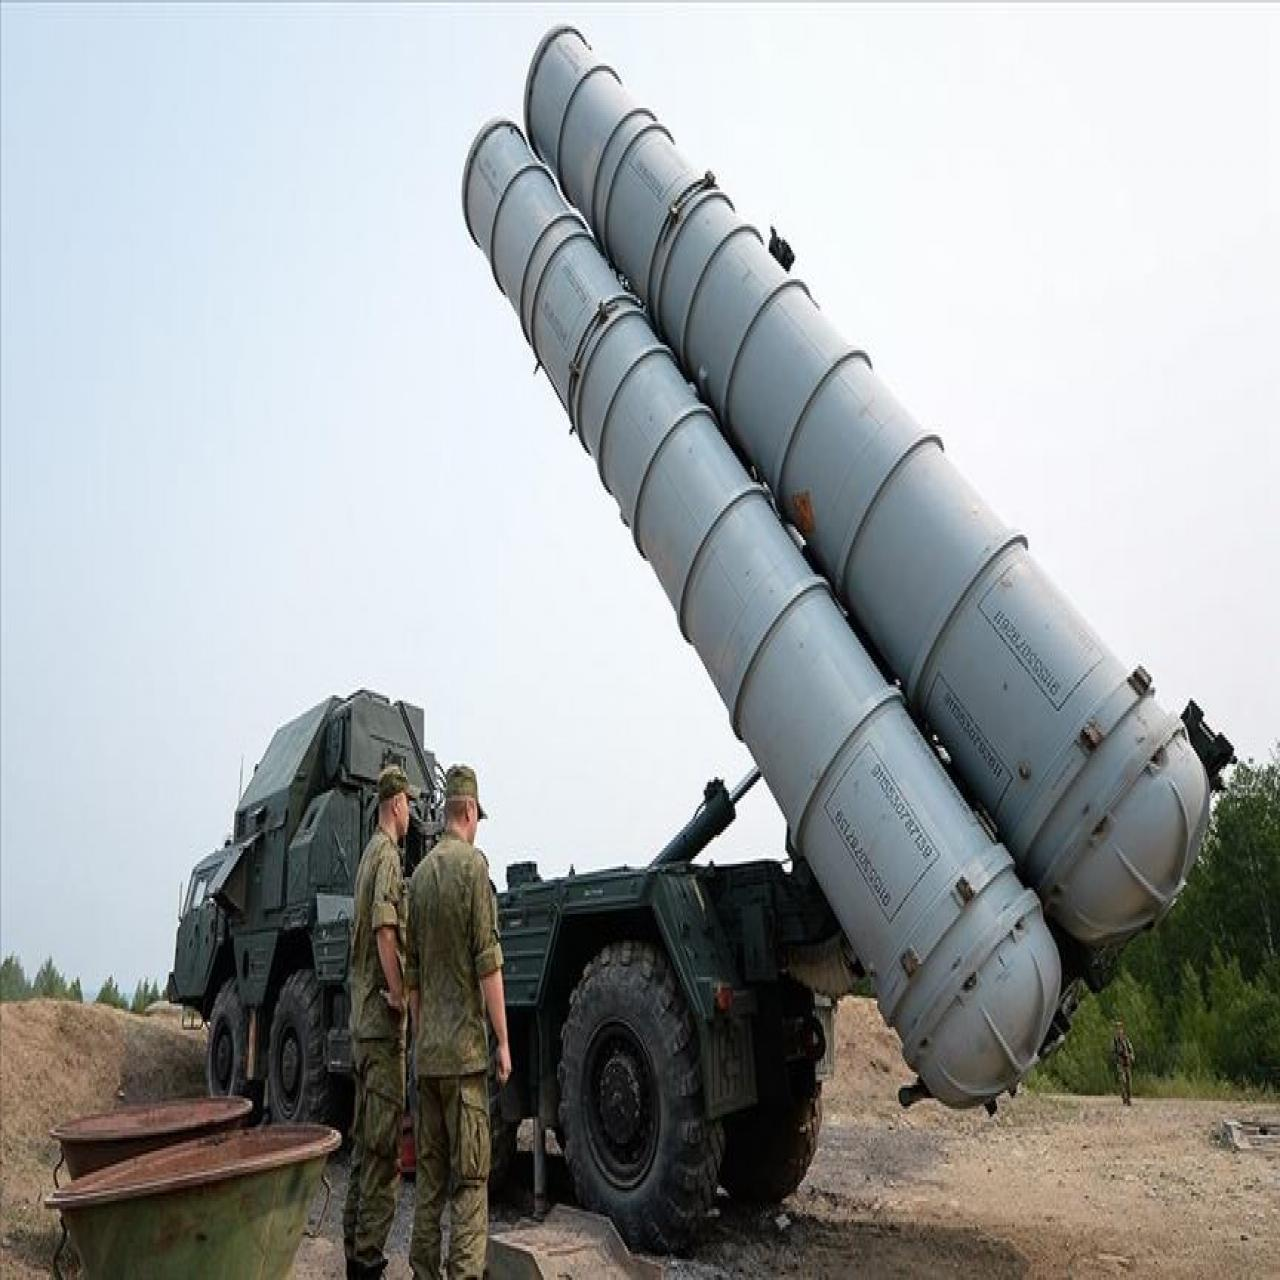MIL_Veh: (177, 29, 1217, 1244)
